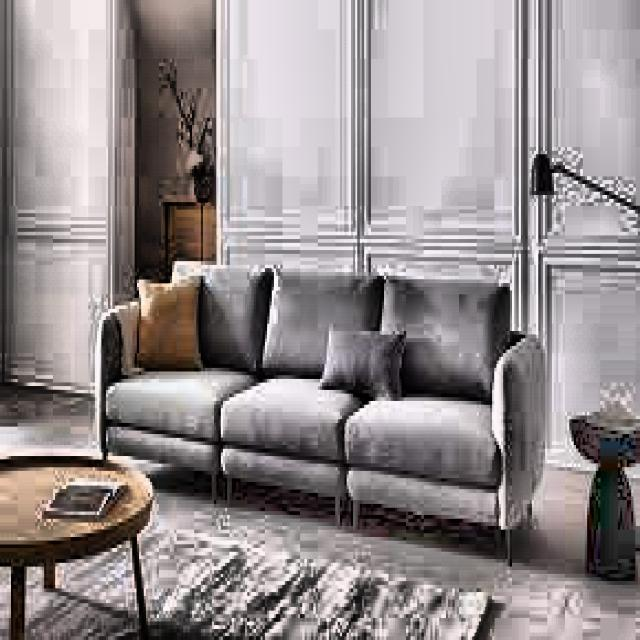sofa: (99, 258, 556, 508)
